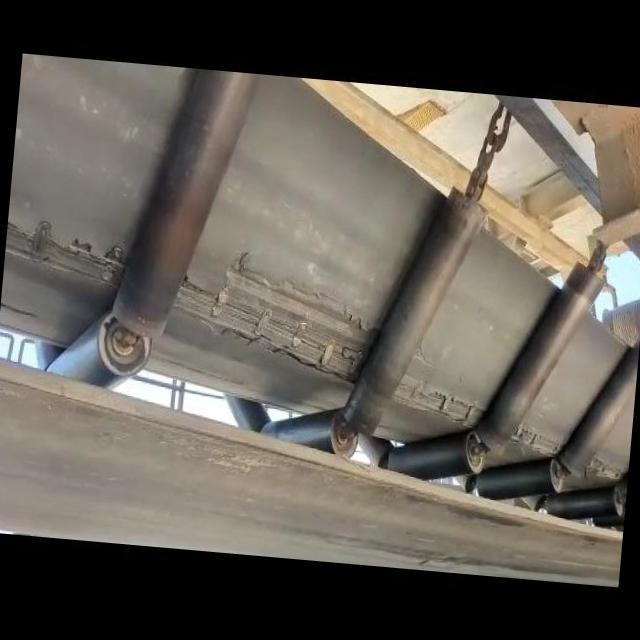Tear: (173, 250, 380, 389), (0, 216, 138, 294), (392, 339, 484, 432), (512, 413, 566, 460)
